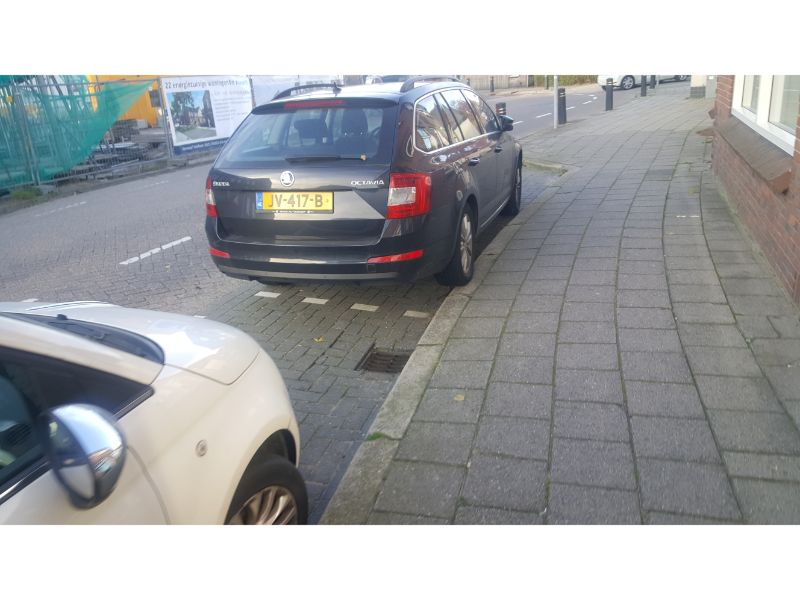kenteken: (255, 186, 334, 213)
